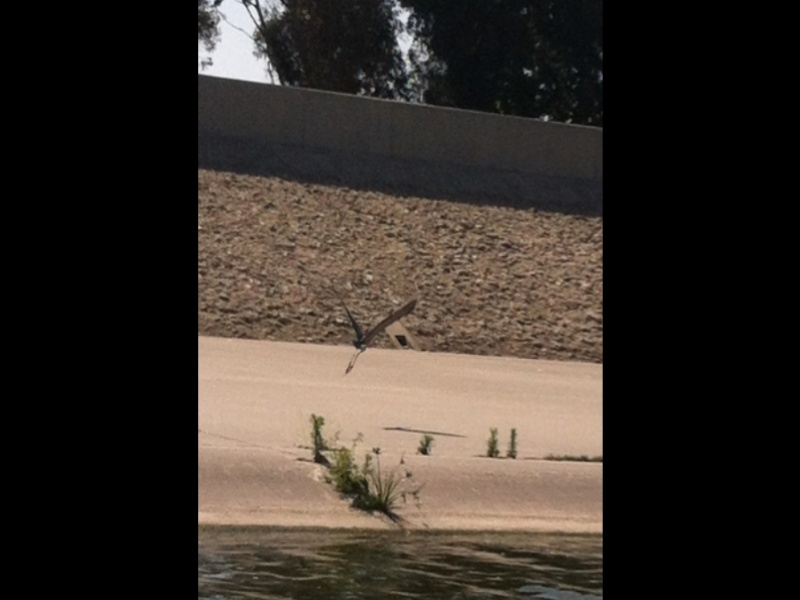heron: (336, 294, 419, 375)
